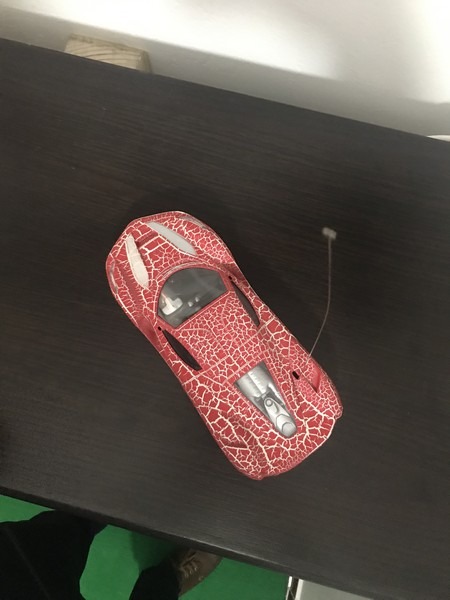RC: (101, 206, 344, 483)
